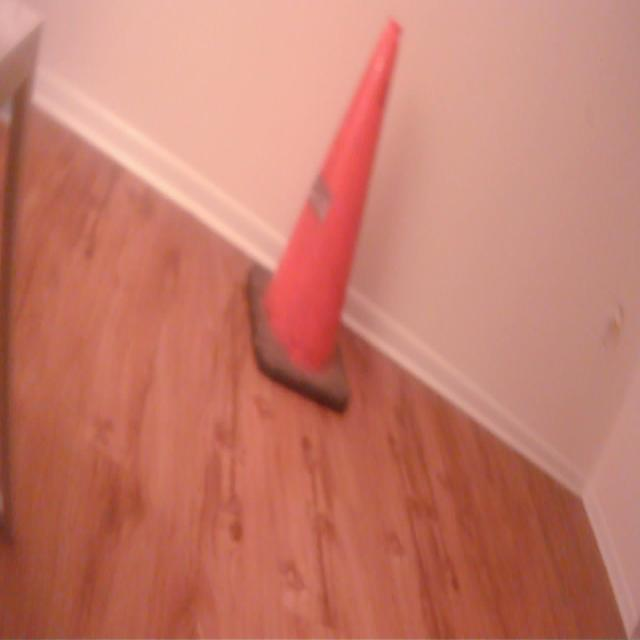traffic cone: (245, 17, 409, 425)
